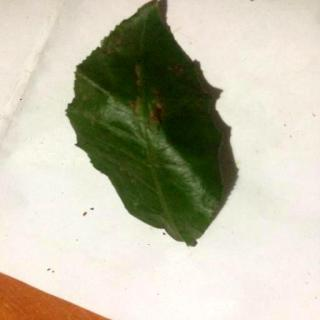Red Leaf Spot: (68, 2, 220, 248)
